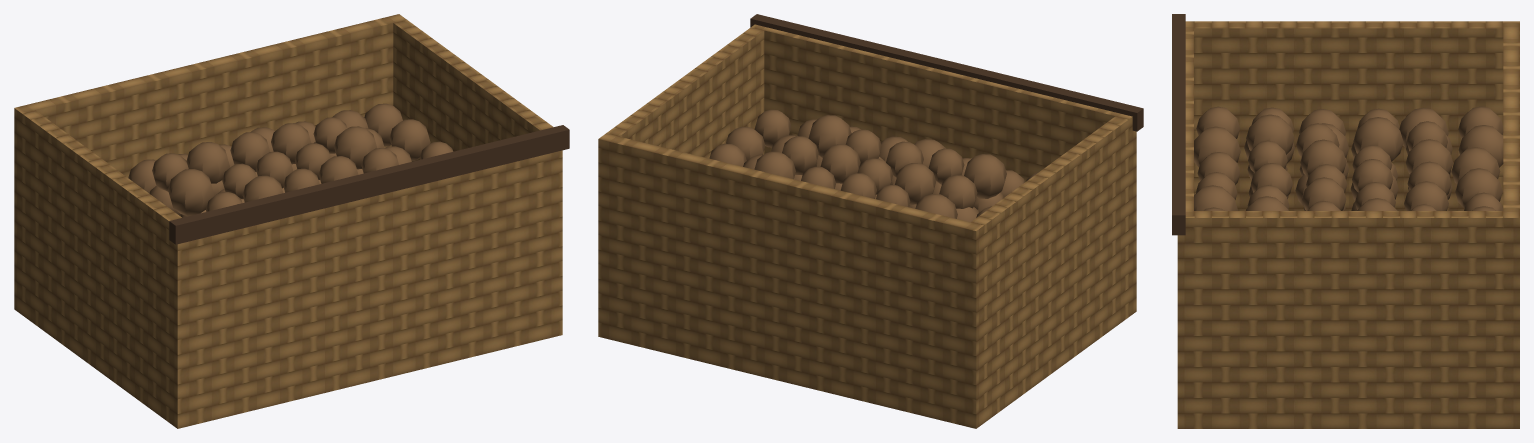
File: tpl_dispensa_cesto_noci.glb
The picture shows the model from 3 angles, left to right: view 1: azimuth 30°, elevation 25°; view 2: azimuth 150°, elevation 25°; view 3: azimuth 270°, elevation 25°; orthographic projection. The views are drawn at different scales.
Parts seen in each view (by area): view 1: tpl_dispensa_cesto_noci; view 2: tpl_dispensa_cesto_noci; view 3: tpl_dispensa_cesto_noci.
Boxes of the visible parts, box(x1,y1,x2,y2) form: tpl_dispensa_cesto_noci: box(14, 14, 569, 428); tpl_dispensa_cesto_noci: box(598, 14, 1143, 428); tpl_dispensa_cesto_noci: box(1172, 14, 1519, 428).
Bounding box in the file's own units: 0.348 × 0.174 × 0.254.
3 materials, 1 textured.
